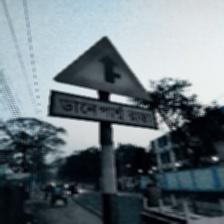Side-road-right: (48, 36, 158, 130)
